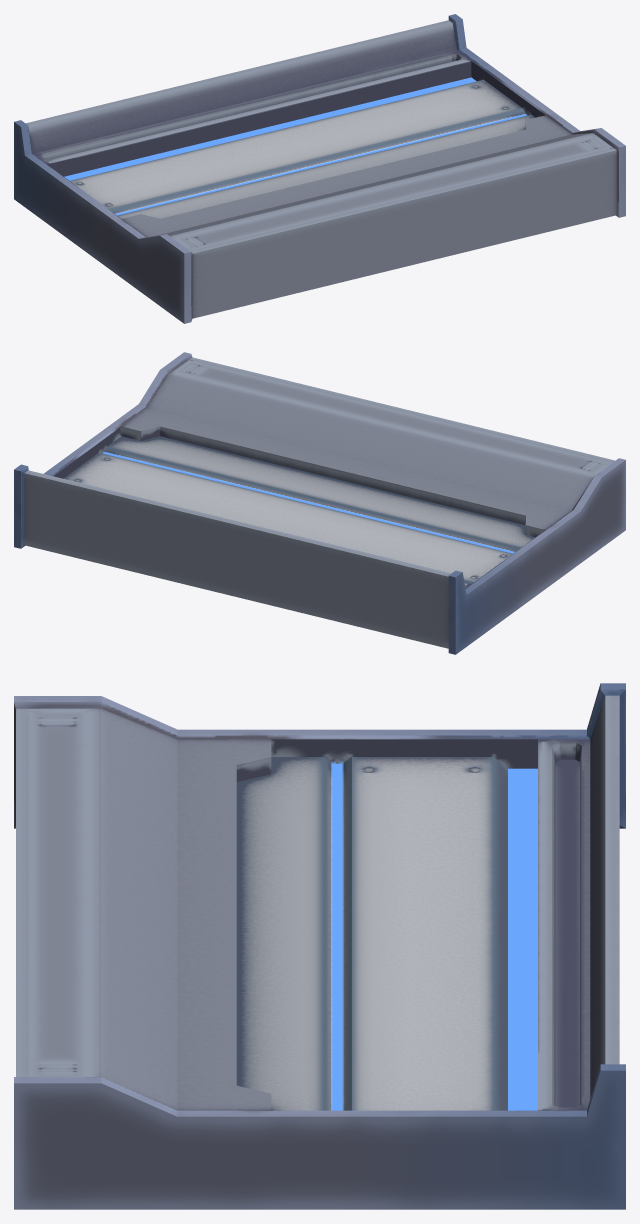
The model's file is hallway1_low.fbx.
The picture shows the model from 3 angles, top to bottom: view 1: azimuth 30°, elevation 25°; view 2: azimuth 150°, elevation 25°; view 3: azimuth 270°, elevation 25°; orthographic projection. The views are drawn at different scales.
Visible parts, largest first — view 1: hallway_1_low; view 2: hallway_1_low; view 3: hallway_1_low.
Part boxes in pixels (bbox=[...]): hallway_1_low: bbox=[14, 14, 625, 323]; hallway_1_low: bbox=[14, 352, 625, 654]; hallway_1_low: bbox=[14, 683, 625, 1209].
Bounding box in the file's own units: 600 × 101 × 401.
